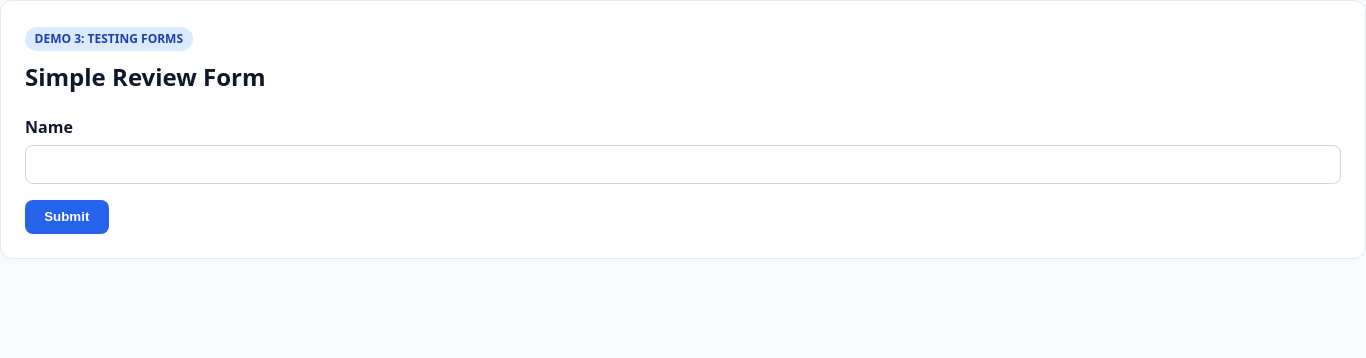
Test case: SimpleReviewForm › submits successfully with a valid name
In the field labelled "Name": (683, 164) [25,145,1341,184], type "Jason"
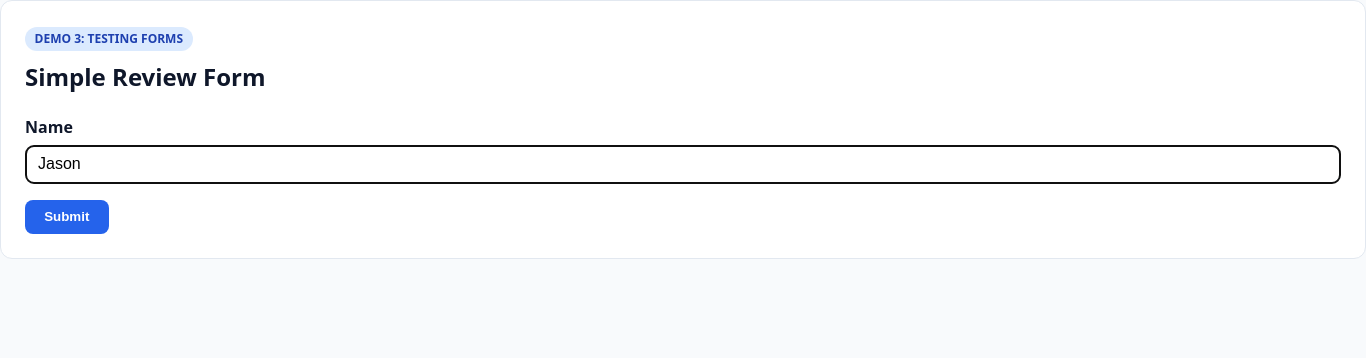
Click the button "Submit": (67, 217) [25,200,108,234]
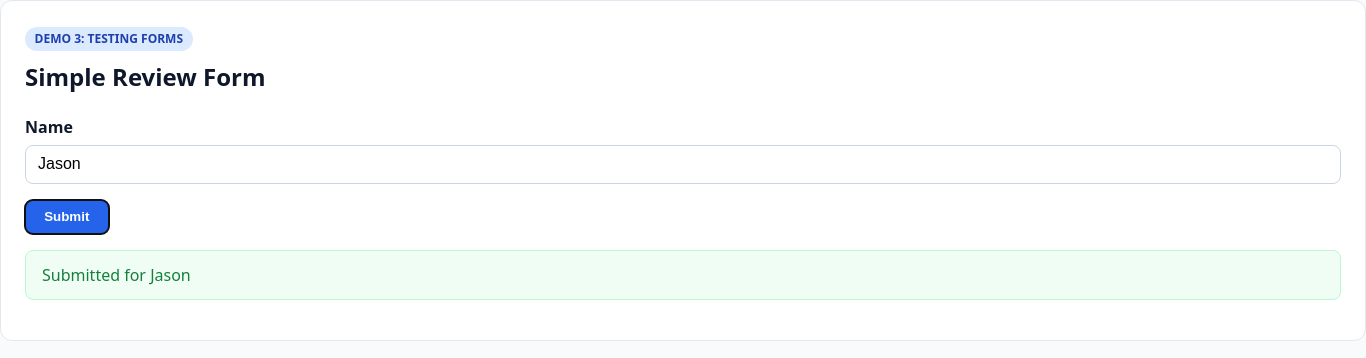
Expected: the text "Submitted for Jason" is shown, [25,250,1341,300]
